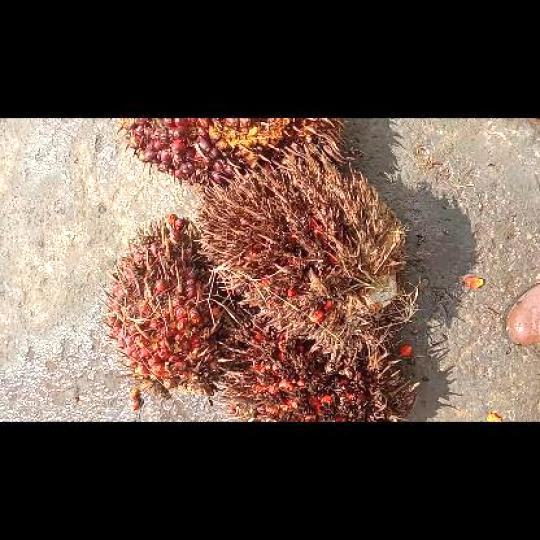masak: (98, 217, 221, 398), (118, 118, 349, 191)
terlalu masak: (193, 145, 410, 359), (212, 304, 416, 420)
